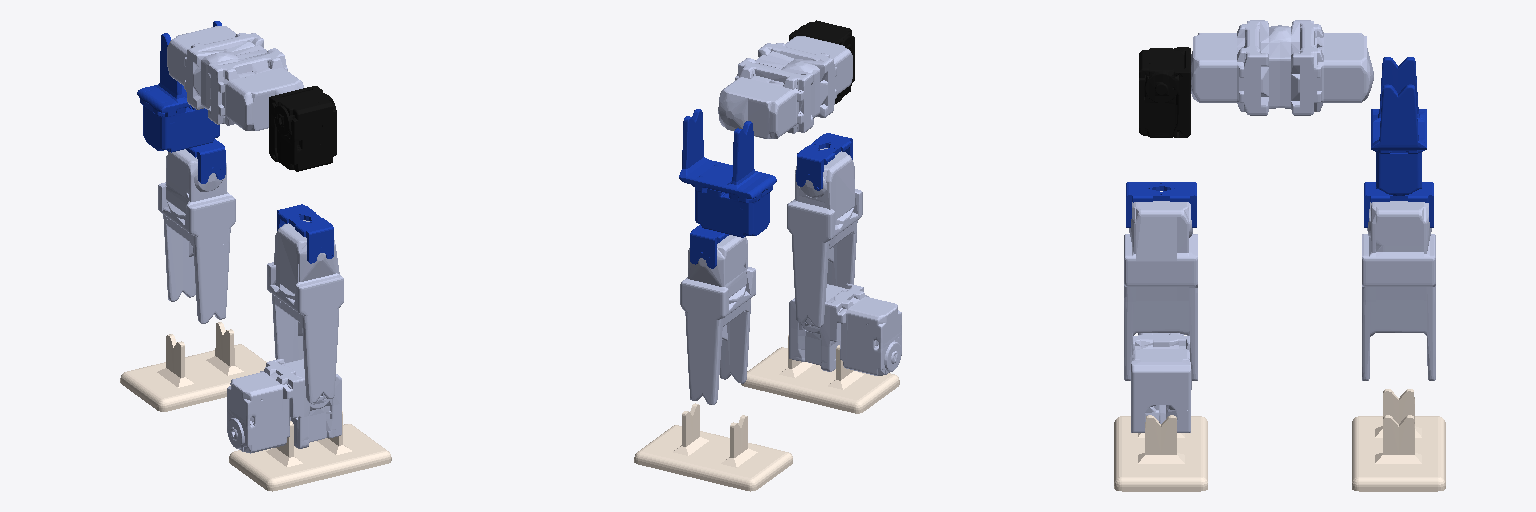
robot.urdf — Phonebot_URDF_v1.1:
<?xml version='1.0' encoding='utf-8'?>
<robot name="Phonebot_URDF_v1.1">
  <link name="base_link">
    <inertial>
      <origin xyz="0.0120880035261201 2.94264110082383E-06 0.000137700141155672" rpy="0 0 0" />
      <mass value="0.163337091846454" />
      <inertia ixx="2.42815705294321E-05" ixy="-4.40820055072968E-09" ixz="2.55503272044308E-07" iyy="4.43067202612924E-05" iyz="1.73779181711909E-08" izz="4.07272180194223E-05" />
      </inertial>
    <visual>
      <origin xyz="0 0 0" rpy="0 0 0" />
      <geometry>
        <mesh filename="meshes/base_link.STL" />
        </geometry>
      <material name="">
        <color rgba="0.792156862745098 0.819607843137255 0.933333333333333 1" />
        </material>
      </visual>
    <collision>
      <origin xyz="0 0 0" rpy="0 0 0" />
      <geometry>
        <mesh filename="meshes/base_link.STL" />
        </geometry>
      </collision>
    </link>
  <link name="Body_Link">
    <inertial>
      <origin xyz="0.0239810392101233 -0.000117764708118906 0.0586310766784631" rpy="0 0 0" />
      <mass value="0.337885464655817" />
      <inertia ixx="0.000548340450653991" ixy="-2.25457273666679E-07" ixz="4.9404229758268E-06" iyy="0.000379245344215494" iyz="1.7098955517623E-06" izz="0.000238076279130959" />
      </inertial>
    <visual>
      <origin xyz="0 0 0" rpy="0 0 0" />
      <geometry>
        <mesh filename="meshes/Body_Link.STL" />
        </geometry>
      <material name="">
        <color rgba="0.752941176470588 0.752941176470588 0.752941176470588 1" />
        </material>
      </visual>
    <collision>
      <origin xyz="0 0 0" rpy="0 0 0" />
      <geometry>
        <mesh filename="meshes/Body_Link.STL" />
        </geometry>
      </collision>
    </link>
  <joint name="Body_Yaw_Joint" type="revolute">
    <origin xyz="0 0 0.0205" rpy="0 0 0" />
    <parent link="base_link" />
    <child link="Body_Link" />
    <axis xyz="0 0 1" />
    <limit lower="-3.142" upper="3.142" effort="0" velocity="0" />
    </joint>
  <link name="L_Hip_Pitch_Link">
    <inertial>
      <origin xyz="0.00039352086584556 0.0117226185476305 0.0166926526043892" rpy="0 0 0" />
      <mass value="0.0503140117431749" />
      <inertia ixx="1.11934938325154E-05" ixy="2.6206995491784E-07" ixz="3.05048556039061E-09" iyy="7.37974976874462E-06" iyz="-6.14897669495621E-09" izz="1.31723971411949E-05" />
      </inertial>
    <visual>
      <origin xyz="0 0 0" rpy="0 0 0" />
      <geometry>
        <mesh filename="meshes/L_Hip_Pitch_Link.STL" />
        </geometry>
      <material name="">
        <color rgba="0.109803921568627 0.109803921568627 0.109803921568627 1" />
        </material>
      </visual>
    <collision>
      <origin xyz="0 0 0" rpy="0 0 0" />
      <geometry>
        <mesh filename="meshes/L_Hip_Pitch_Link.STL" />
        </geometry>
      </collision>
    </link>
  <joint name="L_Hip_Pitch_Joint" type="revolute">
    <origin xyz="0.024 0.05675 0" rpy="-1.5708 0 0" />
    <parent link="base_link" />
    <child link="L_Hip_Pitch_Link" />
    <axis xyz="0 0 1" />
    <limit lower="-1.571" upper="1.571" effort="0" velocity="0" />
    </joint>
  <link name="L_Hip_Roll_Link">
    <inertial>
      <origin xyz="8.30740041597722E-06 -0.0539730760978964 -0.0289917248021264" rpy="0 0 0" />
      <mass value="0.0577821503558218" />
      <inertia ixx="1.85527228913837E-05" ixy="-5.23614239677215E-09" ixz="4.41459779136404E-09" iyy="1.6254327826533E-05" iyz="-3.61812326643561E-07" izz="9.78707268328593E-06" />
      </inertial>
    <visual>
      <origin xyz="0 0 0" rpy="0 0 0" />
      <geometry>
        <mesh filename="meshes/L_Hip_Roll_Link.STL" />
        </geometry>
      <material name="">
        <color rgba="0.137254901960784 0.294117647058824 0.749019607843137 1" />
        </material>
      </visual>
    <collision>
      <origin xyz="0 0 0" rpy="0 0 0" />
      <geometry>
        <mesh filename="meshes/L_Hip_Roll_Link.STL" />
        </geometry>
      </collision>
    </link>
  <joint name="L_Hip_Roll_Joint" type="revolute">
    <origin xyz="0.019 0 0.01875" rpy="3.1416 -1.5708 0" />
    <parent link="L_Hip_Pitch_Link" />
    <child link="L_Hip_Roll_Link" />
    <axis xyz="0 0 1" />
    <limit lower="-0.786" upper="3.142" effort="0" velocity="0" />
    </joint>
  <link name="L_Hip_Yaw_Link">
    <inertial>
      <origin xyz="6.93889390390723E-18 0 0.00625275879894563" rpy="0 0 0" />
      <mass value="0.00558246650899707" />
      <inertia ixx="1.83396034792803E-06" ixy="3.60886450603978E-13" ixz="9.59139668566145E-23" iyy="4.55463603177526E-07" iyz="4.3771364596054E-22" izz="1.84259526538467E-06" />
      </inertial>
    <visual>
      <origin xyz="0 0 0" rpy="0 0 0" />
      <geometry>
        <mesh filename="meshes/L_Hip_Yaw_Link.STL" />
        </geometry>
      <material name="">
        <color rgba="0.137254901960784 0.294117647058824 0.749019607843137 1" />
        </material>
      </visual>
    <collision>
      <origin xyz="0 0 0" rpy="0 0 0" />
      <geometry>
        <mesh filename="meshes/L_Hip_Yaw_Link.STL" />
        </geometry>
      </collision>
    </link>
  <joint name="L_Hip_Yaw_Joint" type="revolute">
    <origin xyz="0 -0.07925 -0.019" rpy="1.5708 -1.5708 0" />
    <parent link="L_Hip_Roll_Link" />
    <child link="L_Hip_Yaw_Link" />
    <axis xyz="0 0 1" />
    <limit lower="-3.142" upper="3.142" effort="0" velocity="0" />
    </joint>
  <link name="L_Knee_Pitch_Link">
    <inertial>
      <origin xyz="0.000851922444856955 0.0302265598825809 -0.0188367597643943" rpy="0 0 0" />
      <mass value="0.0859142330719074" />
      <inertia ixx="3.92786008778373E-05" ixy="8.67680165639185E-08" ixz="-5.3835932617236E-09" iyy="2.10807528817828E-05" iyz="2.55452824625613E-07" izz="3.03814272871544E-05" />
      </inertial>
    <visual>
      <origin xyz="0 0 0" rpy="0 0 0" />
      <geometry>
        <mesh filename="meshes/L_Knee_Pitch_Link.STL" />
        </geometry>
      <material name="">
        <color rgba="0.792156862745098 0.819607843137255 0.933333333333333 1" />
        </material>
      </visual>
    <collision>
      <origin xyz="0 0 0" rpy="0 0 0" />
      <geometry>
        <mesh filename="meshes/L_Knee_Pitch_Link.STL" />
        </geometry>
      </collision>
    </link>
  <joint name="L_Knee_Pitch_Joint" type="revolute">
    <origin xyz="0 -0.019 0.02125" rpy="1.5708 0 0" />
    <parent link="L_Hip_Yaw_Link" />
    <child link="L_Knee_Pitch_Link" />
    <axis xyz="0 0 1" />
    <limit lower="-1.571" upper="1.571" effort="0" velocity="0" />
    </joint>
  <link name="L_Ankle_Pitch_Link">
    <inertial>
      <origin xyz="-0.0163209351577764 -0.0112732070267726 -0.0187770389076161" rpy="0 0 0" />
      <mass value="0.10289318099601" />
      <inertia ixx="2.63371352901457E-05" ixy="4.9838822990631E-07" ixz="1.0512602869276E-08" iyy="1.51681275400878E-05" iyz="-2.59277389916221E-07" izz="2.42013656254686E-05" />
      </inertial>
    <visual>
      <origin xyz="0 0 0" rpy="0 0 0" />
      <geometry>
        <mesh filename="meshes/L_Ankle_Pitch_Link.STL" />
        </geometry>
      <material name="">
        <color rgba="0.792156862745098 0.819607843137255 0.933333333333333 1" />
        </material>
      </visual>
    <collision>
      <origin xyz="0 0 0" rpy="0 0 0" />
      <geometry>
        <mesh filename="meshes/L_Ankle_Pitch_Link.STL" />
        </geometry>
      </collision>
    </link>
  <joint name="L_Ankle_Pitch_Joint" type="revolute">
    <origin xyz="0 0.1065 -0.0382" rpy="3.1416 0 0" />
    <parent link="L_Knee_Pitch_Link" />
    <child link="L_Ankle_Pitch_Link" />
    <axis xyz="0 0 1" />
    <limit lower="-1.571" upper="1.571" effort="0" velocity="0" />
    </joint>
  <link name="L_Ankle_Roll_Link">
    <inertial>
      <origin xyz="2.26157387261949E-09 -0.0302538242168855 0.0224329681837724" rpy="0 0 0" />
      <mass value="0.199941915686484" />
      <inertia ixx="0.000160746415074451" ixy="8.01445130113181E-12" ixz="1.37527554784773E-10" iyy="0.000207710045474122" iyz="1.51281801387758E-07" izz="5.92078764405586E-05" />
      </inertial>
    <visual>
      <origin xyz="0 0 0" rpy="0 0 0" />
      <geometry>
        <mesh filename="meshes/L_Ankle_Roll_Link.STL" />
        </geometry>
      <material name="">
        <color rgba="1 0.949019607843137 0.898039215686275 1" />
        </material>
      </visual>
    <collision>
      <origin xyz="0 0 0" rpy="0 0 0" />
      <geometry>
        <mesh filename="meshes/L_Ankle_Roll_Link.STL" />
        </geometry>
      </collision>
    </link>
  <joint name="L_Ankle_Roll_Joint" type="revolute">
    <origin xyz="-0.01875 -0.024 -0.019" rpy="0 1.5708 0" />
    <parent link="L_Ankle_Pitch_Link" />
    <child link="L_Ankle_Roll_Link" />
    <axis xyz="0 0 1" />
    <limit lower="-1.571" upper="1.571" effort="0" velocity="0" />
    </joint>
  <link name="R_Hip_Pitch_Link">
    <inertial>
      <origin xyz="0.00050052594333222 -0.0117226185590269 0.0166735468963193" rpy="0 0 0" />
      <mass value="0.0503140117662099" />
      <inertia ixx="1.11934938447945E-05" ixy="-2.48936578501881E-07" ixz="-3.05049116650478E-09" iyy="7.37974977677535E-06" iyz="-2.66741813111065E-09" izz="1.31723971628094E-05" />
      </inertial>
    <visual>
      <origin xyz="0 0 0" rpy="0 0 0" />
      <geometry>
        <mesh filename="meshes/R_Hip_Pitch_Link.STL" />
        </geometry>
      <material name="">
        <color rgba="0.109803921568627 0.109803921568627 0.109803921568627 1" />
        </material>
      </visual>
    <collision>
      <origin xyz="0 0 0" rpy="0 0 0" />
      <geometry>
        <mesh filename="meshes/R_Hip_Pitch_Link.STL" />
        </geometry>
      </collision>
    </link>
  <joint name="R_Hip_Pitch_Joint" type="revolute">
    <origin xyz="0.024 -0.05675 0" rpy="1.5708 0 0" />
    <parent link="base_link" />
    <child link="R_Hip_Pitch_Link" />
    <axis xyz="0 0 1" />
    <limit lower="-1.571" upper="1.571" effort="0" velocity="0" />
    </joint>
  <link name="R_Hip_Roll_Link">
    <inertial>
      <origin xyz="-8.30740041606048E-06 0.0539730760978964 -0.0289917248021264" rpy="0 0 0" />
      <mass value="0.0577821503558218" />
      <inertia ixx="1.85527228913837E-05" ixy="-5.23614239677421E-09" ixz="-4.41459779135724E-09" iyy="1.6254327826533E-05" iyz="3.61812326643564E-07" izz="9.78707268328592E-06" />
      </inertial>
    <visual>
      <origin xyz="0 0 0" rpy="0 0 0" />
      <geometry>
        <mesh filename="meshes/R_Hip_Roll_Link.STL" />
        </geometry>
      <material name="">
        <color rgba="0.137254901960784 0.294117647058824 0.749019607843137 1" />
        </material>
      </visual>
    <collision>
      <origin xyz="0 0 0" rpy="0 0 0" />
      <geometry>
        <mesh filename="meshes/R_Hip_Roll_Link.STL" />
        </geometry>
      </collision>
    </link>
  <joint name="R_Hip_Roll_Joint" type="revolute">
    <origin xyz="0.019 0 0.01875" rpy="3.1416 -1.5708 0" />
    <parent link="R_Hip_Pitch_Link" />
    <child link="R_Hip_Roll_Link" />
    <axis xyz="0 0 1" />
    <limit lower="-3.142" upper="0.786" effort="0" velocity="0" />
    </joint>
  <link name="R_Hip_Yaw_Link">
    <inertial>
      <origin xyz="-6.10622663543836E-16 4.16333634234434E-17 0.0062527587989455" rpy="0 0 0" />
      <mass value="0.00558246650899706" />
      <inertia ixx="1.83396034792803E-06" ixy="3.60886450246529E-13" ixz="2.54328495875481E-23" iyy="4.55463603177526E-07" iyz="-2.76271551435806E-22" izz="1.84259526538467E-06" />
      </inertial>
    <visual>
      <origin xyz="0 0 0" rpy="0 0 0" />
      <geometry>
        <mesh filename="meshes/R_Hip_Yaw_Link.STL" />
        </geometry>
      <material name="">
        <color rgba="0.137254901960784 0.294117647058824 0.749019607843137 1" />
        </material>
      </visual>
    <collision>
      <origin xyz="0 0 0" rpy="0 0 0" />
      <geometry>
        <mesh filename="meshes/R_Hip_Yaw_Link.STL" />
        </geometry>
      </collision>
    </link>
  <joint name="R_Hip_Yaw_Joint" type="revolute">
    <origin xyz="0 0.07925 -0.019" rpy="1.5708 -1.5708 3.1416" />
    <parent link="R_Hip_Roll_Link" />
    <child link="R_Hip_Yaw_Link" />
    <axis xyz="0 0 1" />
    <limit lower="-3.142" upper="3.142" effort="0" velocity="0" />
    </joint>
  <link name="R_Knee_Pitch_Link">
    <inertial>
      <origin xyz="0.000863111334580446 -0.030226559882581 -0.0186396589895419" rpy="0 0 0" />
      <mass value="0.0859142330719075" />
      <inertia ixx="3.92786008778374E-05" ixy="-7.79516154624617E-08" ixz="5.38359326172686E-09" iyy="2.10807528817828E-05" iyz="-2.55553719463006E-07" izz="3.03814272871544E-05" />
      </inertial>
    <visual>
      <origin xyz="0 0 0" rpy="0 0 0" />
      <geometry>
        <mesh filename="meshes/R_Knee_Pitch_Link.STL" />
        </geometry>
      <material name="">
        <color rgba="0.792156862745098 0.819607843137255 0.933333333333333 1" />
        </material>
      </visual>
    <collision>
      <origin xyz="0 0 0" rpy="0 0 0" />
      <geometry>
        <mesh filename="meshes/R_Knee_Pitch_Link.STL" />
        </geometry>
      </collision>
    </link>
  <joint name="R_Knee_Pitch_Joint" type="revolute">
    <origin xyz="0 0.019 0.02125" rpy="-1.5708 0 0" />
    <parent link="R_Hip_Yaw_Link" />
    <child link="R_Knee_Pitch_Link" />
    <axis xyz="0 0 1" />
    <limit lower="-1.571" upper="1.571" effort="0" velocity="0" />
    </joint>
  <link name="R_Ankle_Pitch_Link">
    <inertial>
      <origin xyz="-0.0163302777131783 0.0112732070321218 -0.0187857787610095" rpy="0 0 0" />
      <mass value="0.102893180972975" />
      <inertia ixx="2.63371352688847E-05" ixy="-4.89571822831244E-07" ixz="-1.05126085921012E-08" iyy="1.51681275317499E-05" iyz="2.51729143571692E-07" izz="2.42013656139885E-05" />
      </inertial>
    <visual>
      <origin xyz="0 0 0" rpy="0 0 0" />
      <geometry>
        <mesh filename="meshes/R_Ankle_Pitch_Link.STL" />
        </geometry>
      <material name="">
        <color rgba="0.792156862745098 0.819607843137255 0.933333333333333 1" />
        </material>
      </visual>
    <collision>
      <origin xyz="0 0 0" rpy="0 0 0" />
      <geometry>
        <mesh filename="meshes/R_Ankle_Pitch_Link.STL" />
        </geometry>
      </collision>
    </link>
  <joint name="R_Ankle_Pitch_Joint" type="revolute">
    <origin xyz="0 -0.1065 -0.0378" rpy="3.1416 0 0" />
    <parent link="R_Knee_Pitch_Link" />
    <child link="R_Ankle_Pitch_Link" />
    <axis xyz="0 0 1" />
    <limit lower="-1.571" upper="1.571" effort="0" velocity="0" />
    </joint>
  <link name="R_Ankle_Roll_Link">
    <inertial>
      <origin xyz="2.26157514937597E-09 -0.0302538242168843 0.0224329681837727" rpy="0 0 0" />
      <mass value="0.199941915686483" />
      <inertia ixx="0.000160746415074451" ixy="8.01445143676834E-12" ixz="1.37527554506013E-10" iyy="0.000207710045474122" iyz="1.51281801387959E-07" izz="5.92078764405586E-05" />
      </inertial>
    <visual>
      <origin xyz="0 0 0" rpy="0 0 0" />
      <geometry>
        <mesh filename="meshes/R_Ankle_Roll_Link.STL" />
        </geometry>
      <material name="">
        <color rgba="1 0.949019607843137 0.898039215686275 1" />
        </material>
      </visual>
    <collision>
      <origin xyz="0 0 0" rpy="0 0 0" />
      <geometry>
        <mesh filename="meshes/R_Ankle_Roll_Link.STL" />
        </geometry>
      </collision>
    </link>
  <joint name="R_Ankle_Roll_Joint" type="revolute">
    <origin xyz="-0.01875 0.024 -0.019" rpy="0 -1.5708 3.1416" />
    <parent link="R_Ankle_Pitch_Link" />
    <child link="R_Ankle_Roll_Link" />
    <axis xyz="0 0 1" />
    <limit lower="-1.571" upper="1.571" effort="0" velocity="0" />
    </joint>
  </robot>

--- What the picture shows (computed from the rendered views, not written in the file) ---
The picture shows the robot from 3 angles, left to right: view 1: azimuth 30°, elevation 25°; view 2: azimuth 150°, elevation 25°; view 3: azimuth 270°, elevation 25°; orthographic projection.
Model Phonebot_URDF_v1.1 with 14 links and 13 joints (13 revolute), rooted at base_link, posed all joints at 0.
Visible links, largest first — view 1: L_Knee_Pitch_Link, base_link, R_Knee_Pitch_Link, R_Ankle_Pitch_Link, L_Ankle_Roll_Link, R_Ankle_Roll_Link, R_Hip_Pitch_Link, L_Hip_Roll_Link, R_Hip_Yaw_Link, L_Hip_Yaw_Link; view 2: base_link, L_Knee_Pitch_Link, R_Knee_Pitch_Link, R_Ankle_Pitch_Link, L_Hip_Roll_Link, L_Ankle_Roll_Link, R_Ankle_Roll_Link, R_Hip_Yaw_Link, R_Hip_Pitch_Link, L_Hip_Yaw_Link; view 3: base_link, L_Knee_Pitch_Link, R_Knee_Pitch_Link, L_Ankle_Roll_Link, R_Ankle_Roll_Link, L_Hip_Roll_Link, R_Ankle_Pitch_Link, R_Hip_Pitch_Link, R_Hip_Yaw_Link, L_Hip_Yaw_Link.
Boxes of the visible links, x1,y1,x2,y2 form: L_Knee_Pitch_Link: [158, 149, 235, 323]; base_link: [167, 26, 303, 130]; R_Knee_Pitch_Link: [267, 220, 343, 403]; R_Ankle_Pitch_Link: [227, 358, 341, 453]; L_Ankle_Roll_Link: [120, 322, 266, 411]; R_Ankle_Roll_Link: [229, 411, 391, 491]; R_Hip_Pitch_Link: [269, 86, 336, 171]; L_Hip_Roll_Link: [137, 21, 221, 152]; R_Hip_Yaw_Link: [277, 204, 333, 263]; L_Hip_Yaw_Link: [168, 139, 225, 183]; base_link: [718, 36, 852, 138]; L_Knee_Pitch_Link: [680, 235, 755, 404]; R_Knee_Pitch_Link: [787, 148, 862, 327]; R_Ankle_Pitch_Link: [789, 283, 901, 375]; L_Hip_Roll_Link: [679, 109, 776, 237]; L_Ankle_Roll_Link: [634, 403, 792, 491]; R_Ankle_Roll_Link: [741, 335, 899, 413]; R_Hip_Yaw_Link: [796, 133, 852, 190]; R_Hip_Pitch_Link: [789, 20, 854, 103]; L_Hip_Yaw_Link: [690, 224, 728, 268]; base_link: [1191, 20, 1373, 115]; L_Knee_Pitch_Link: [1362, 201, 1435, 380]; R_Knee_Pitch_Link: [1124, 201, 1197, 380]; L_Ankle_Roll_Link: [1352, 389, 1445, 491]; R_Ankle_Roll_Link: [1114, 415, 1207, 491]; L_Hip_Roll_Link: [1371, 57, 1426, 195]; R_Ankle_Pitch_Link: [1131, 333, 1191, 432]; R_Hip_Pitch_Link: [1139, 47, 1190, 137]; R_Hip_Yaw_Link: [1126, 182, 1196, 227]; L_Hip_Yaw_Link: [1364, 182, 1433, 227].
Bounding box of the posed robot: 0.1119 × 0.211 × 0.288 m (x, y, z).
Meshes: 14 distinct files referenced, 10 mesh visuals loaded (10 binary STL); not drawn: 4 (reference not matched to a file when rendering).
